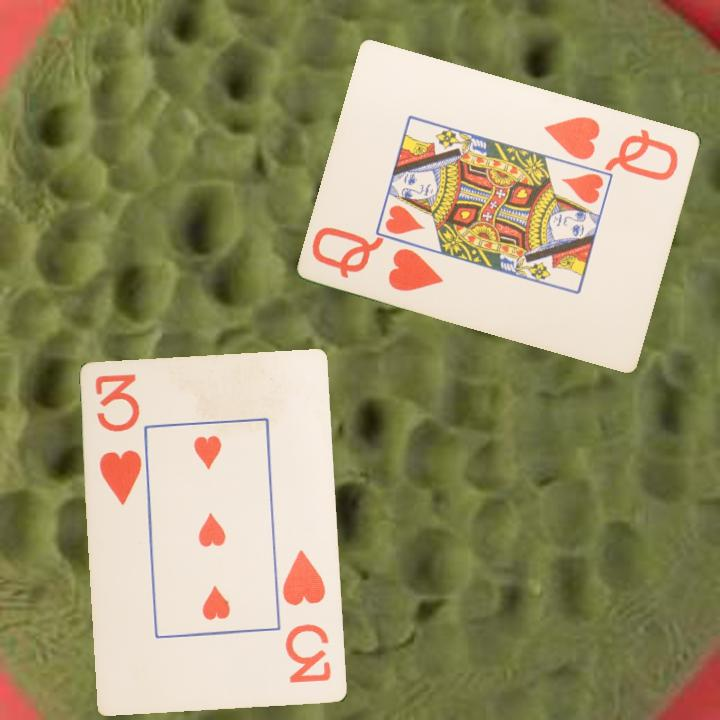3h: (279, 547, 334, 686), (92, 371, 145, 509)
Qh: (541, 112, 682, 184), (309, 223, 447, 294)
